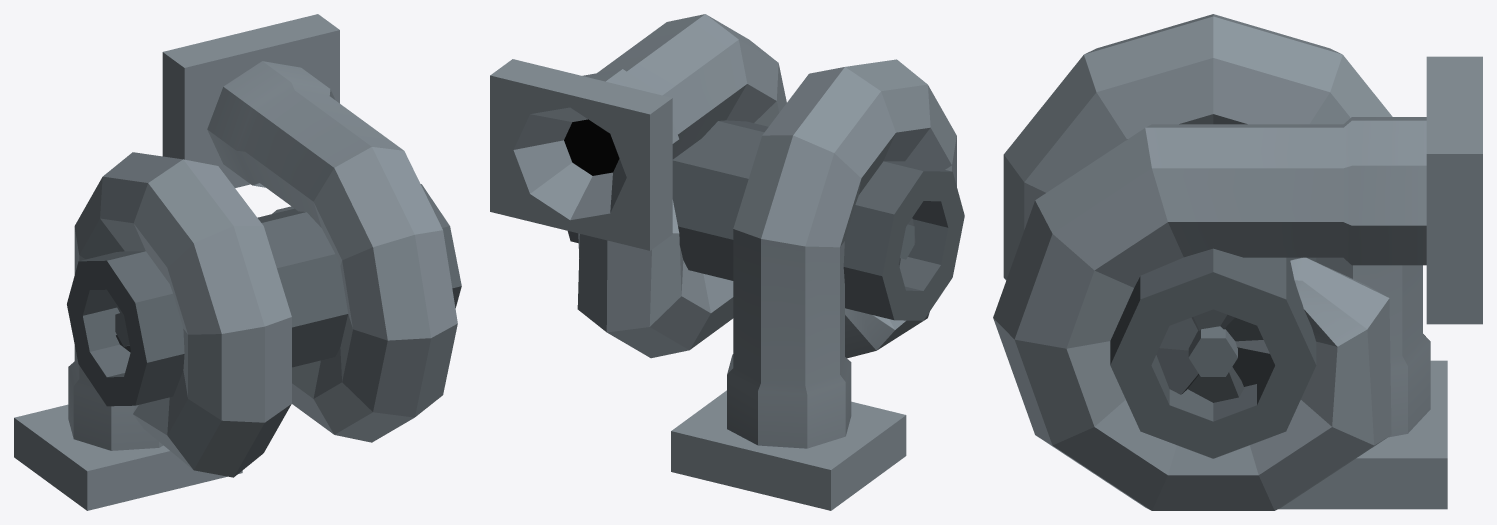
File: SM_Prop_Turbo_01.fbx
The picture shows the model from 3 angles, left to right: view 1: azimuth 30°, elevation 25°; view 2: azimuth 150°, elevation 25°; view 3: azimuth 270°, elevation 25°; orthographic projection. The views are drawn at different scales.
Visible parts, largest first — view 1: SM_Prop_Turbo_01; view 2: SM_Prop_Turbo_01; view 3: SM_Prop_Turbo_01.
Part boxes in pixels (x1=…): SM_Prop_Turbo_01: x1=14, y1=14, x2=461, y2=510; SM_Prop_Turbo_01: x1=490, y1=14, x2=964, y2=510; SM_Prop_Turbo_01: x1=993, y1=14, x2=1482, y2=510.
Bounding box in the file's own units: 28.68 × 30.7 × 29.84.
